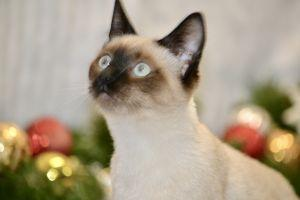siamese: (81, 1, 205, 123)
